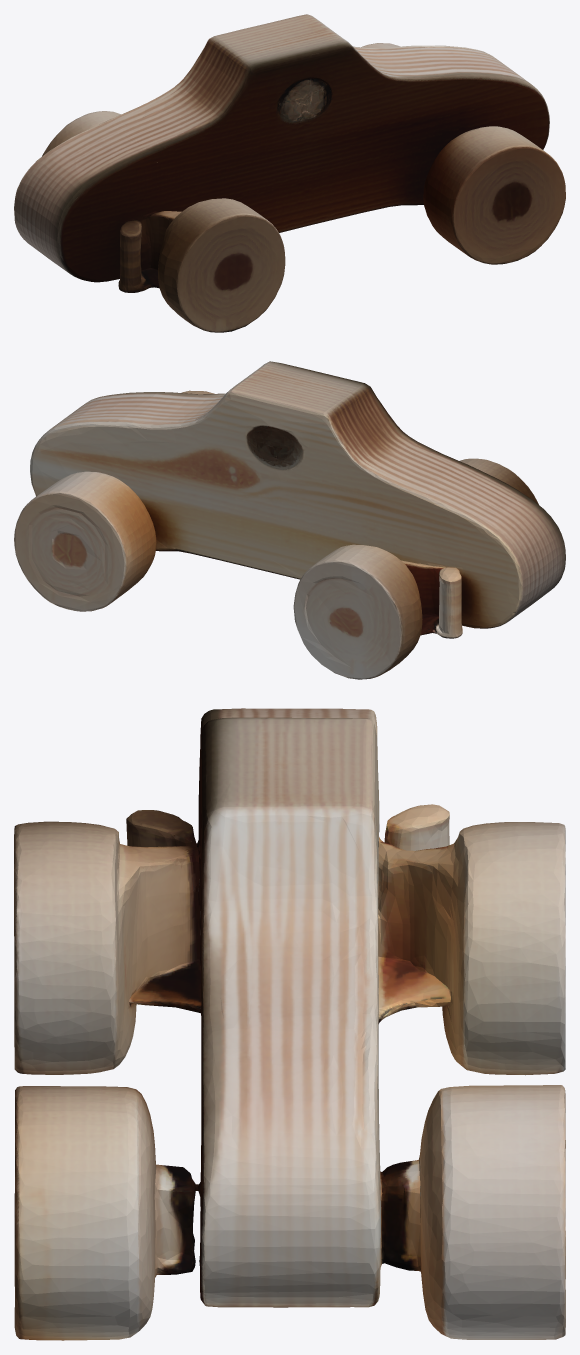
The picture shows the model from 3 angles, top to bottom: view 1: azimuth 30°, elevation 25°; view 2: azimuth 150°, elevation 25°; view 3: azimuth 270°, elevation 25°; orthographic projection. The views are drawn at different scales.
Parts seen in each view (by area): view 1: world; view 2: world; view 3: world.
Boxes of the visible parts, x1=… form: world: x1=14, y1=14, x2=565, y2=332; world: x1=14, y1=361, x2=565, y2=679; world: x1=14, y1=708, x2=565, y2=1340.
Bounding box in the file's own units: 1 × 0.4139 × 0.4992.
Materials: 1 (1 with a texture image).
